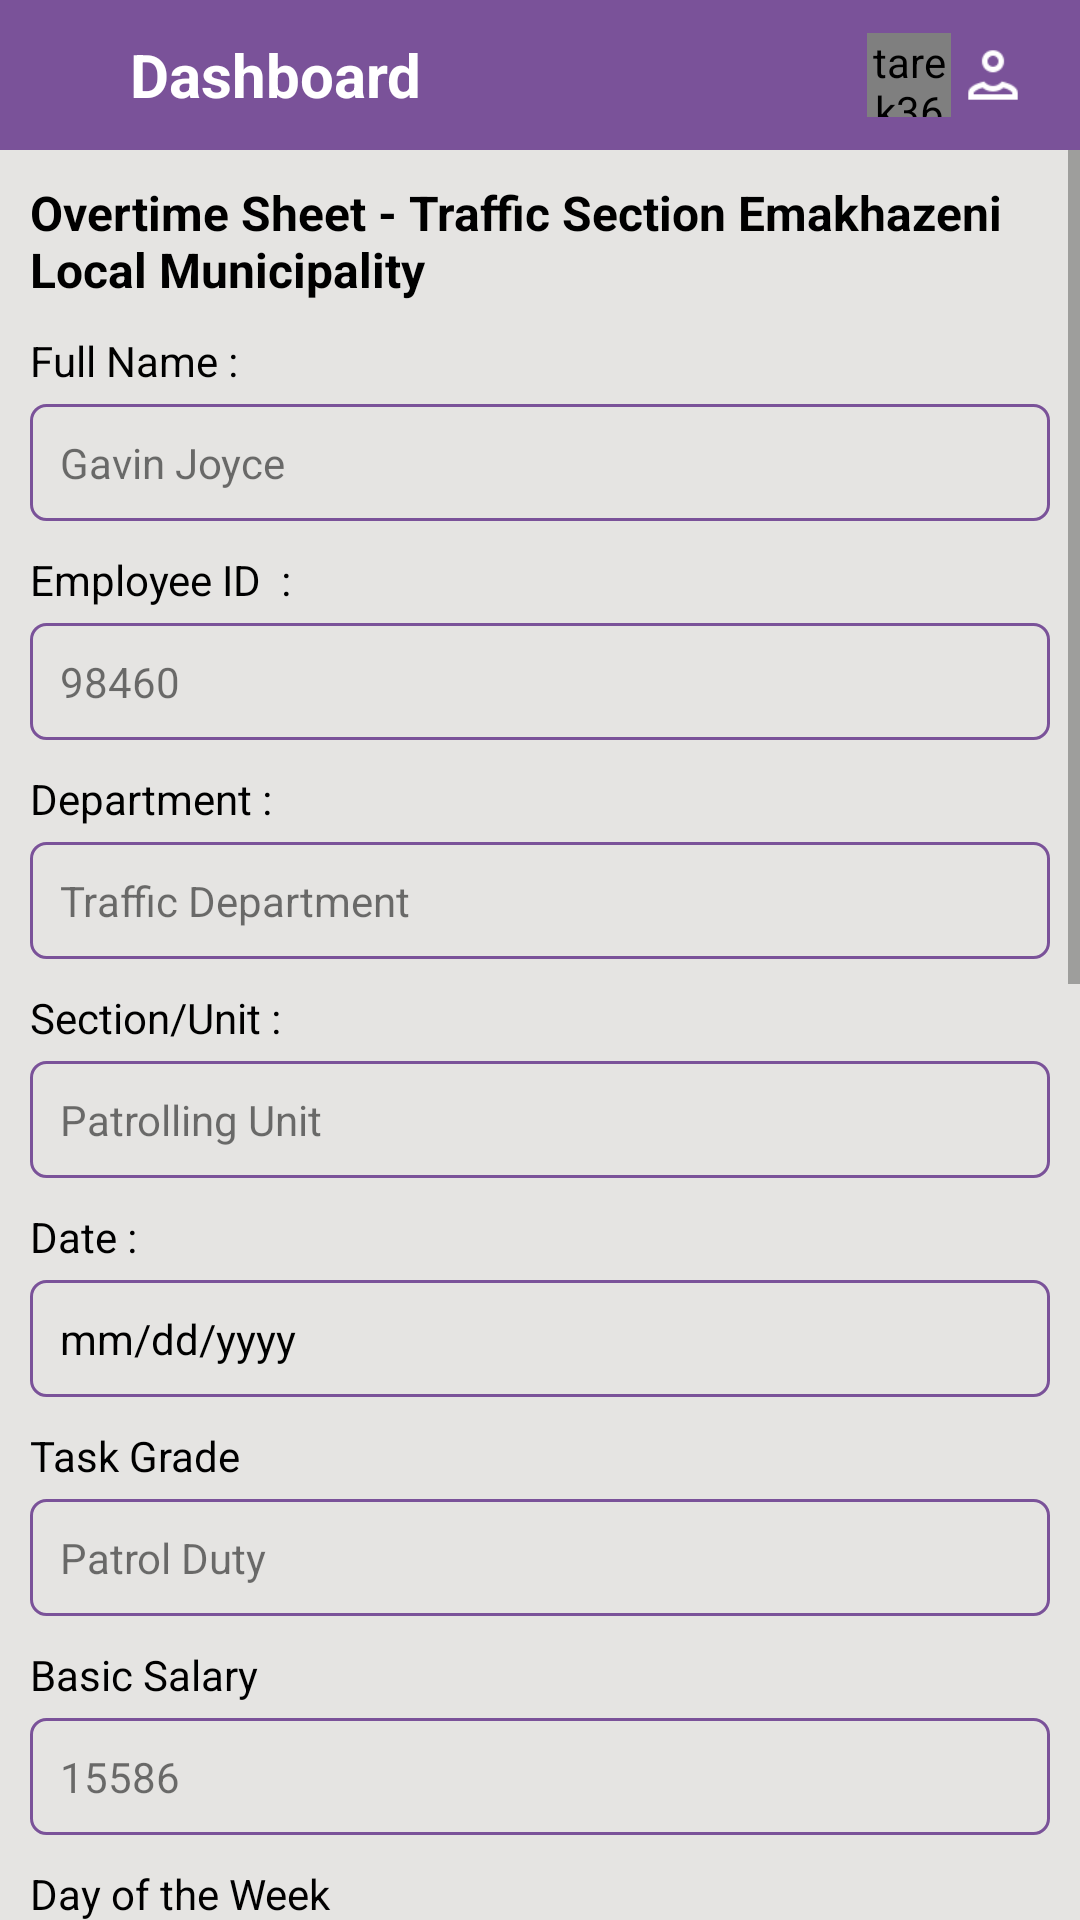

Locate icon controls on the screen. Image size 1080 x 1920, boxes as bbox=(x1, y1, x2, y2).
person: bbox=(968, 50, 1018, 100)
